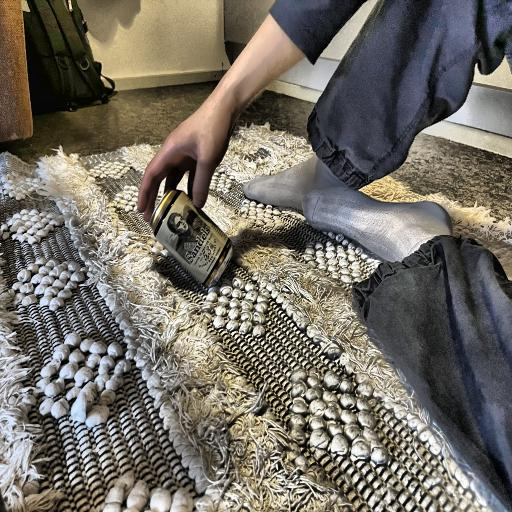sandels: (149, 178, 234, 285)
